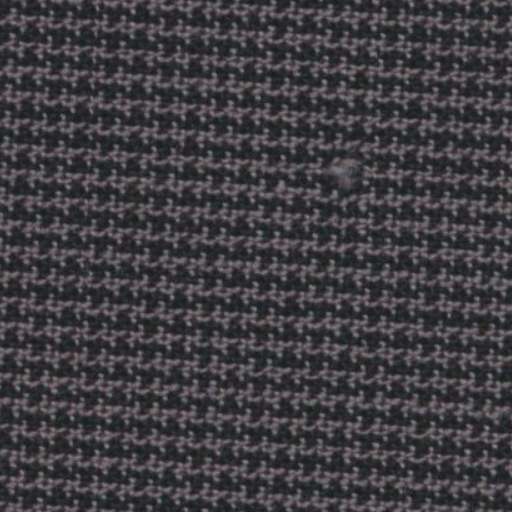PoDong: (304, 134, 382, 214)
